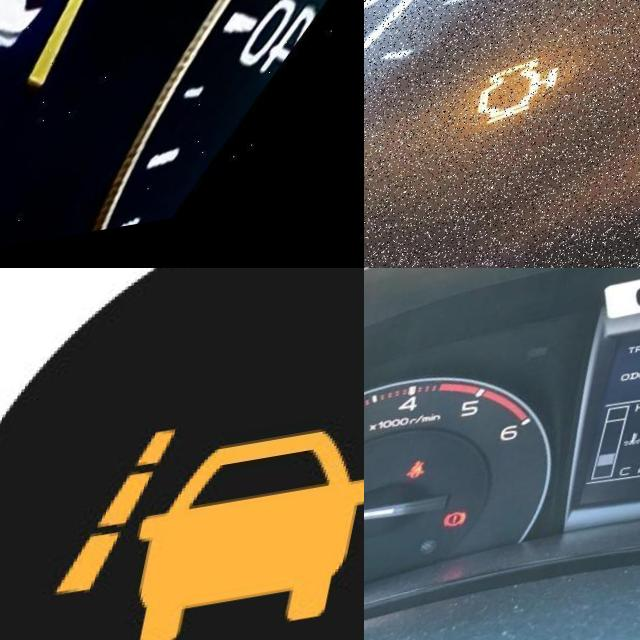Seat Belt: (421, 462, 443, 485)
